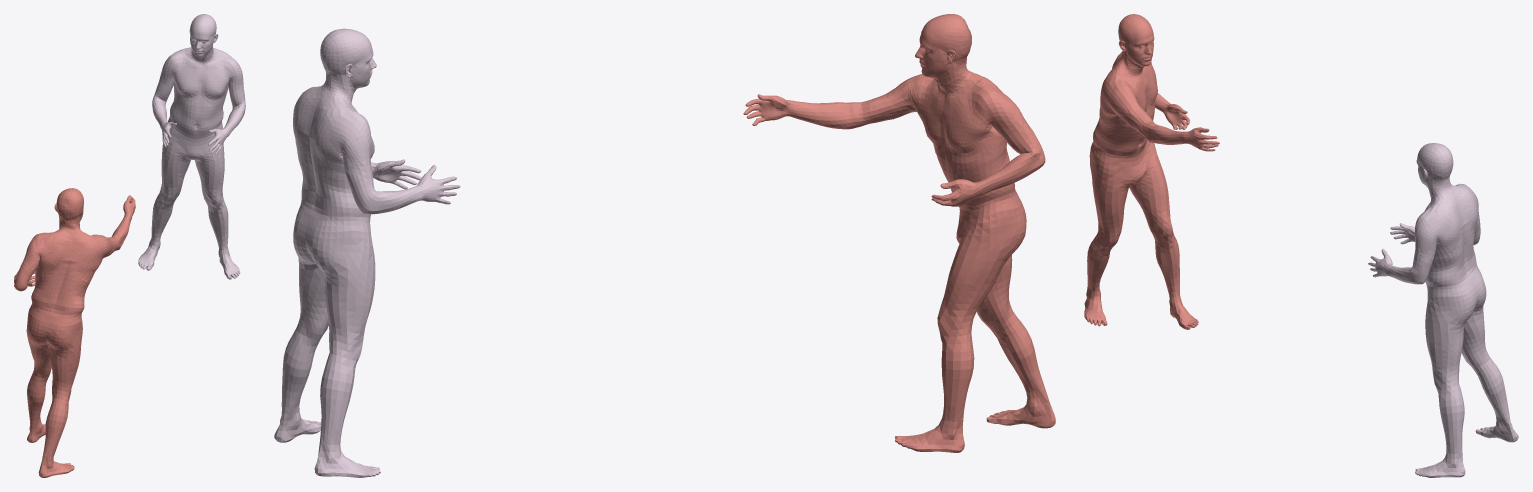
The model's file is frame_0002.glb.
3 renders of one model, left to right at view 1: azimuth 30°, elevation 25°; view 2: azimuth 150°, elevation 25°; view 3: azimuth 270°, elevation 25°, orthographic. The views are drawn at different scales.
Parts seen in each view (by area): view 1: human_1, human_2; view 2: human_1, human_2; view 3: human_2, human_1.
Boxes of the visible parts, box(x1,y1,x2,y2) form: human_1: box(14, 188, 135, 477); human_2: box(138, 14, 245, 279); human_1: box(743, 14, 1055, 452); human_2: box(274, 28, 460, 477); human_2: box(1368, 143, 1518, 477); human_1: box(1084, 14, 1219, 329).
Bounding box in the file's own units: 2.61 × 2.01 × 2.32.
